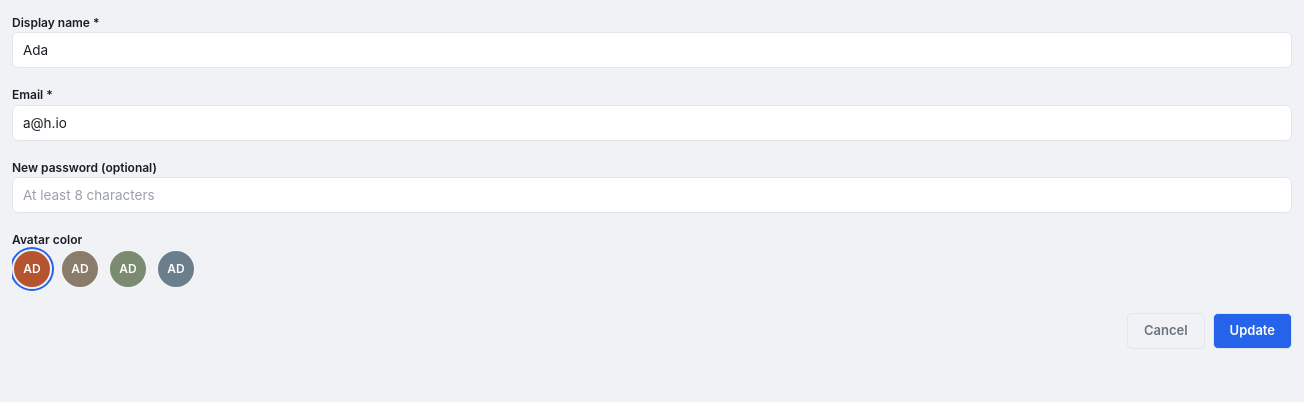
Test case: MemberForm › rejects a too-short new password when editing instead of sending it
Type "short" into the password field labelled "New password (optional)" at (652, 195), box [12,177,1292,213]
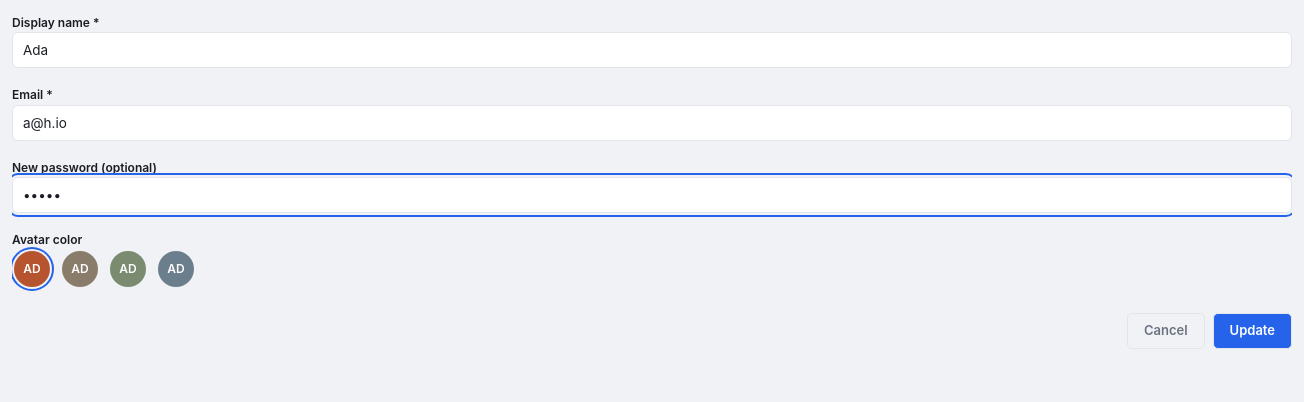
Click the button "Update" at (1252, 331), box [1213,313,1292,349]
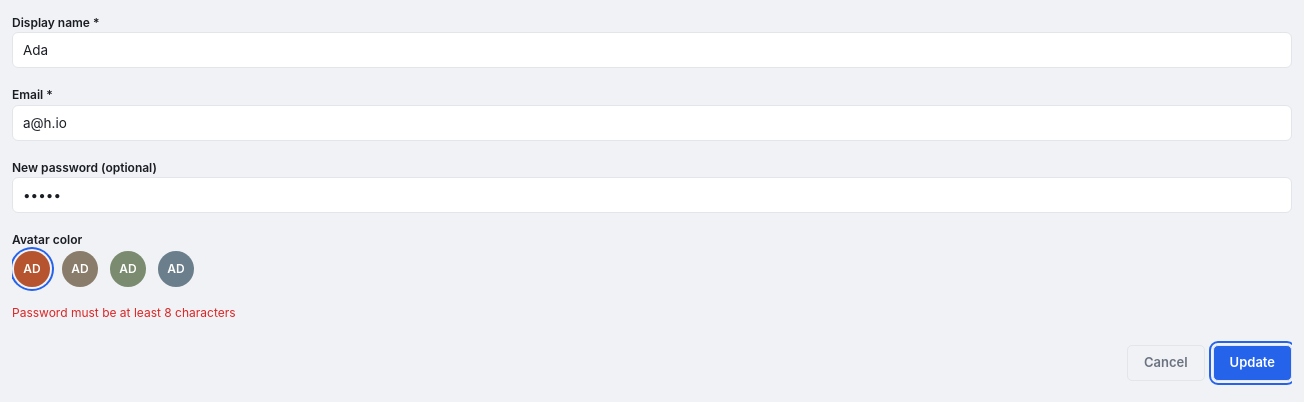
Result: the text "Password must be at least 8 characters" is shown at [12,305,236,320]
